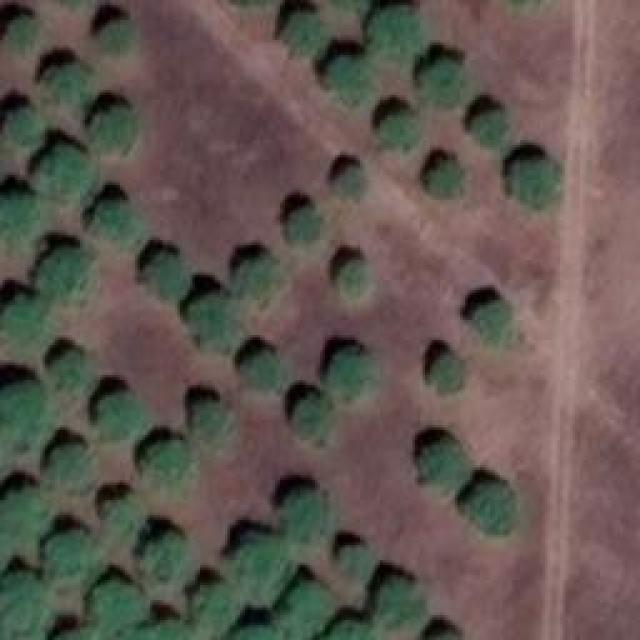Tree: (35, 140, 95, 207), (508, 155, 570, 212), (235, 542, 294, 601), (33, 243, 96, 298), (420, 448, 477, 507), (0, 572, 48, 640), (371, 578, 428, 634), (185, 298, 250, 345), (465, 484, 522, 536), (370, 5, 425, 58), (143, 440, 194, 497), (48, 441, 102, 494), (278, 495, 330, 550), (275, 583, 332, 633), (0, 487, 48, 546), (185, 394, 239, 446), (328, 350, 377, 407), (48, 535, 102, 586), (148, 533, 197, 588), (0, 380, 45, 439), (418, 58, 471, 108), (193, 580, 240, 636), (93, 580, 142, 633), (285, 10, 335, 59), (0, 290, 45, 344), (90, 103, 139, 150), (3, 100, 45, 154), (140, 252, 188, 299), (103, 495, 151, 542), (473, 297, 520, 344), (100, 395, 146, 442), (290, 400, 335, 448), (90, 200, 139, 244), (0, 190, 41, 242), (425, 157, 471, 202), (240, 342, 284, 388), (425, 352, 468, 399), (48, 353, 98, 393), (330, 58, 376, 101), (42, 63, 89, 103), (95, 10, 143, 48), (243, 255, 281, 303), (283, 210, 327, 251), (384, 113, 426, 155), (338, 258, 379, 300), (330, 543, 370, 586), (3, 13, 44, 54), (473, 105, 512, 143), (333, 165, 372, 200), (228, 617, 284, 640), (325, 617, 370, 640), (145, 620, 193, 640), (57, 622, 105, 640)
